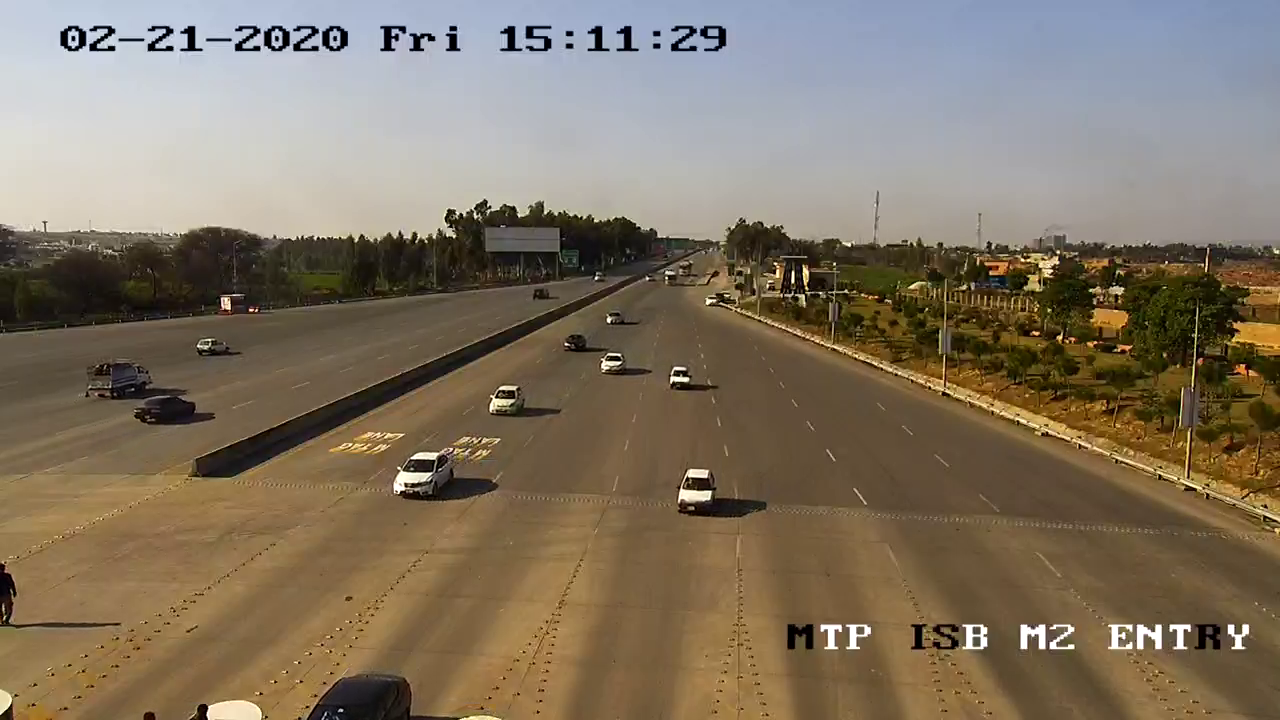f1: (383, 446, 463, 503), (672, 462, 723, 522), (486, 380, 529, 422)
